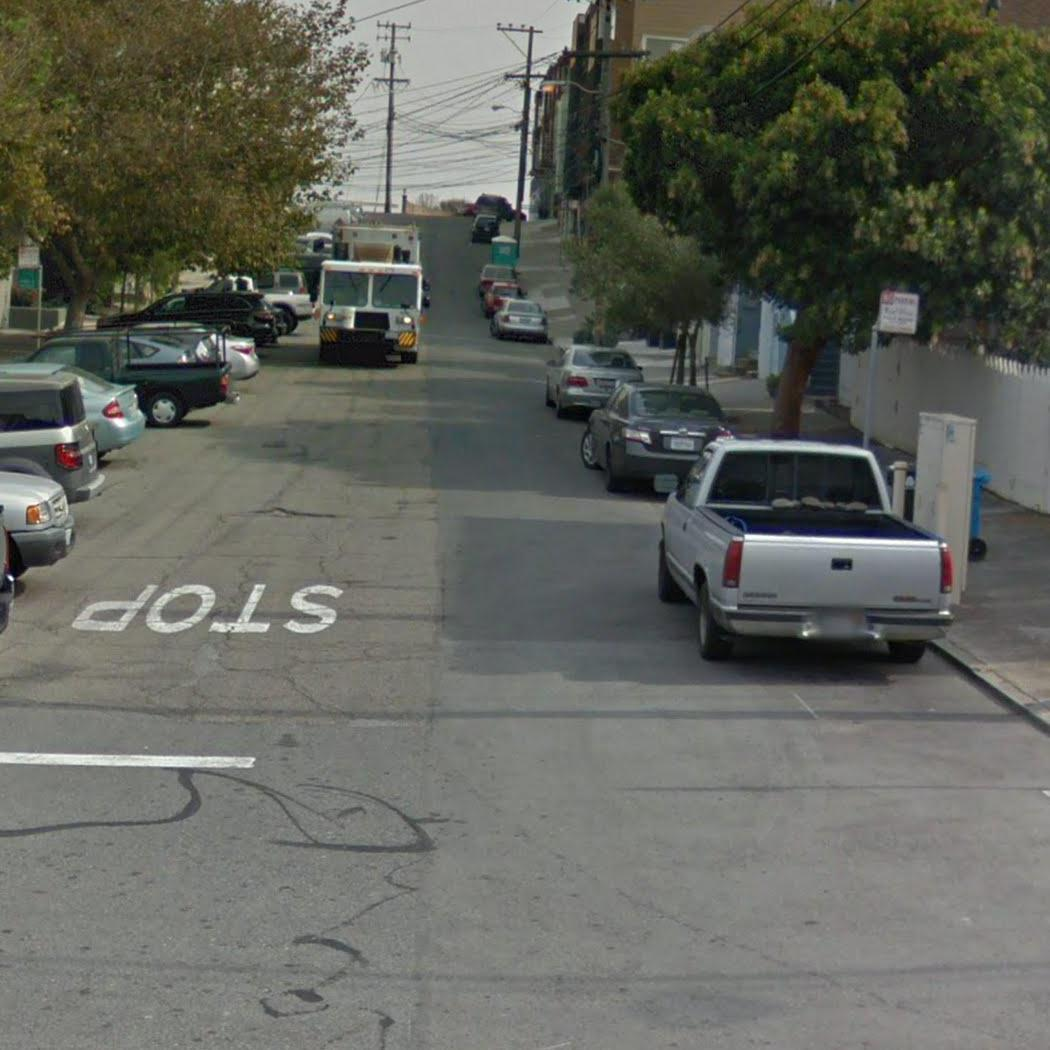No Parking: (875, 288, 921, 337)
